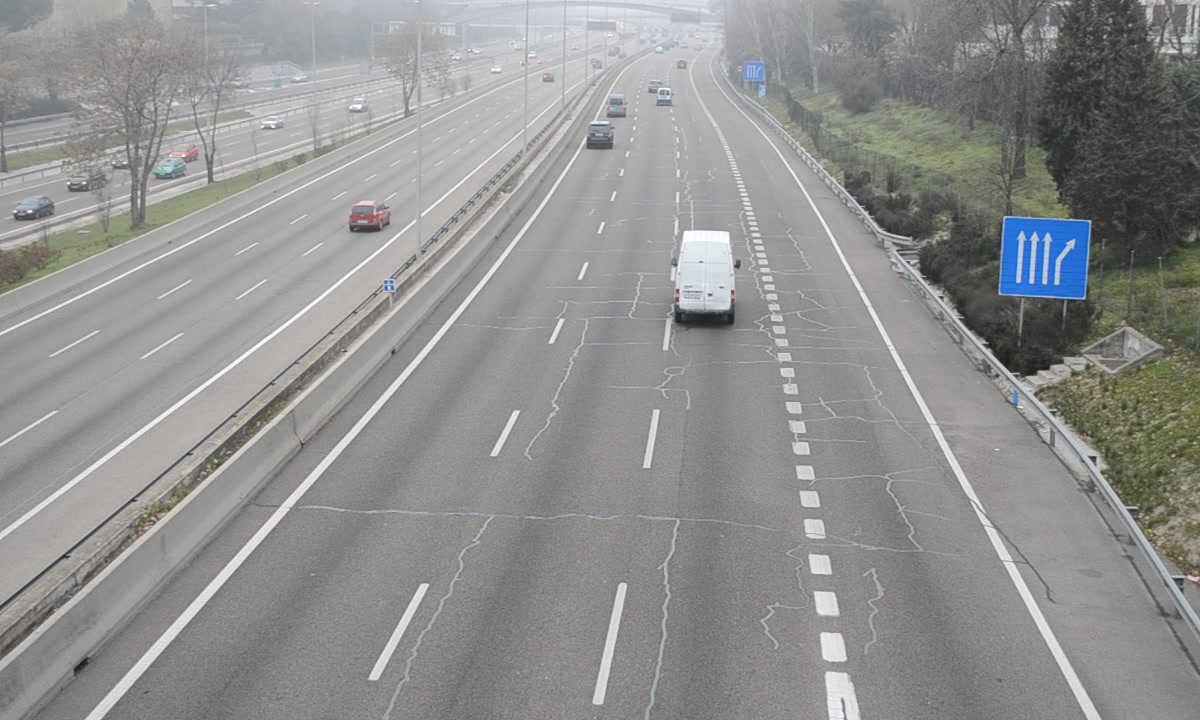car: (588, 121, 615, 149)
van: (673, 230, 739, 326), (606, 93, 626, 120)
